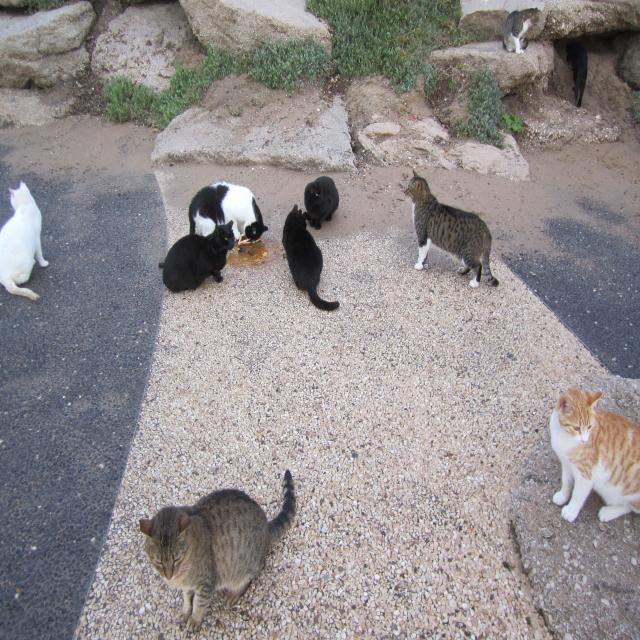cat: (140, 470, 296, 632), (550, 388, 640, 522), (404, 170, 499, 288), (282, 205, 339, 312), (0, 182, 49, 300), (159, 222, 235, 292), (189, 182, 268, 240), (304, 177, 339, 230), (502, 8, 540, 53), (566, 42, 588, 107)
